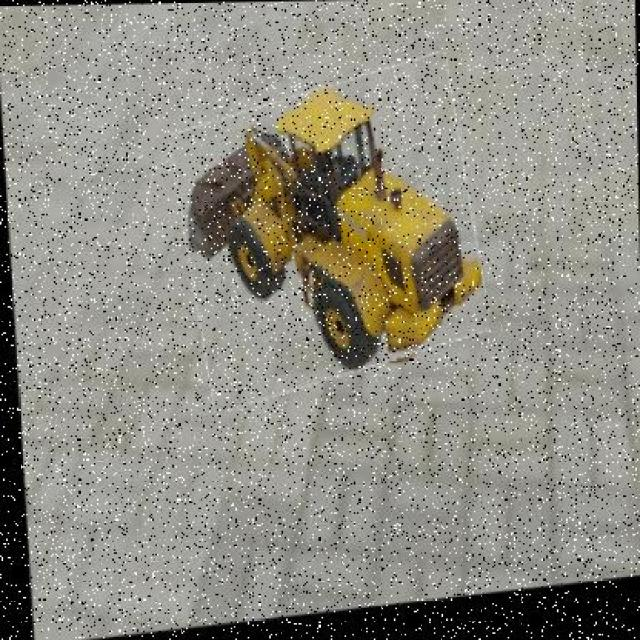buldozerpayloadergrader: (184, 88, 484, 372)
